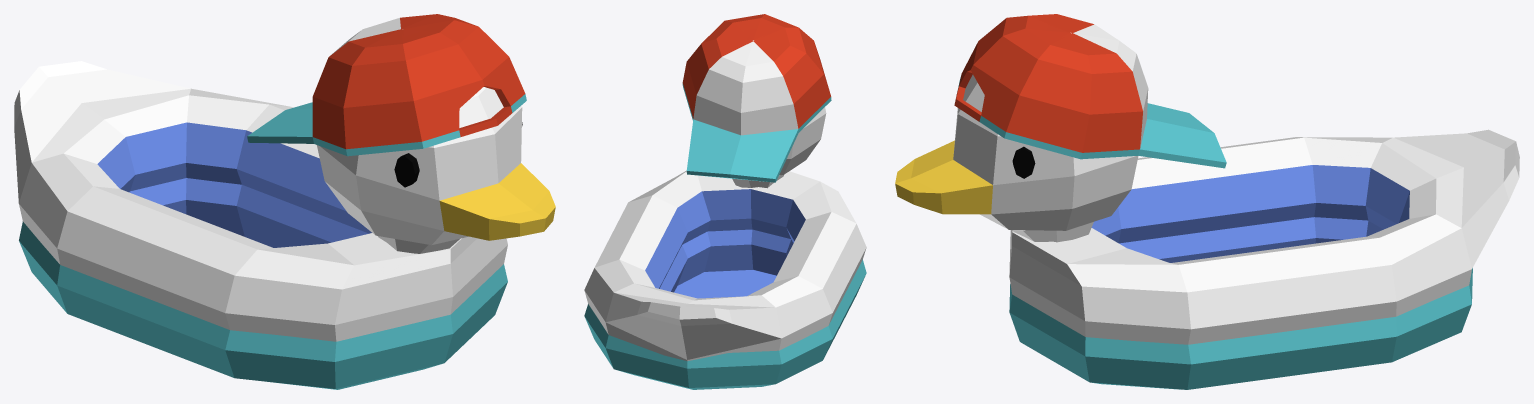
The picture shows the model from 3 angles, left to right: view 1: azimuth 30°, elevation 25°; view 2: azimuth 150°, elevation 25°; view 3: azimuth 270°, elevation 25°; orthographic projection. The views are drawn at different scales.
Visible parts, largest first — view 1: Ducc.001; view 2: Ducc.001; view 3: Ducc.001.
Part boxes in pixels (<box>): Ducc.001: <box>14,14,555,389</box>; Ducc.001: <box>584,14,866,389</box>; Ducc.001: <box>895,14,1519,389</box>.
Bounding box in the file's own units: 3.19 × 2.92 × 5.06.
